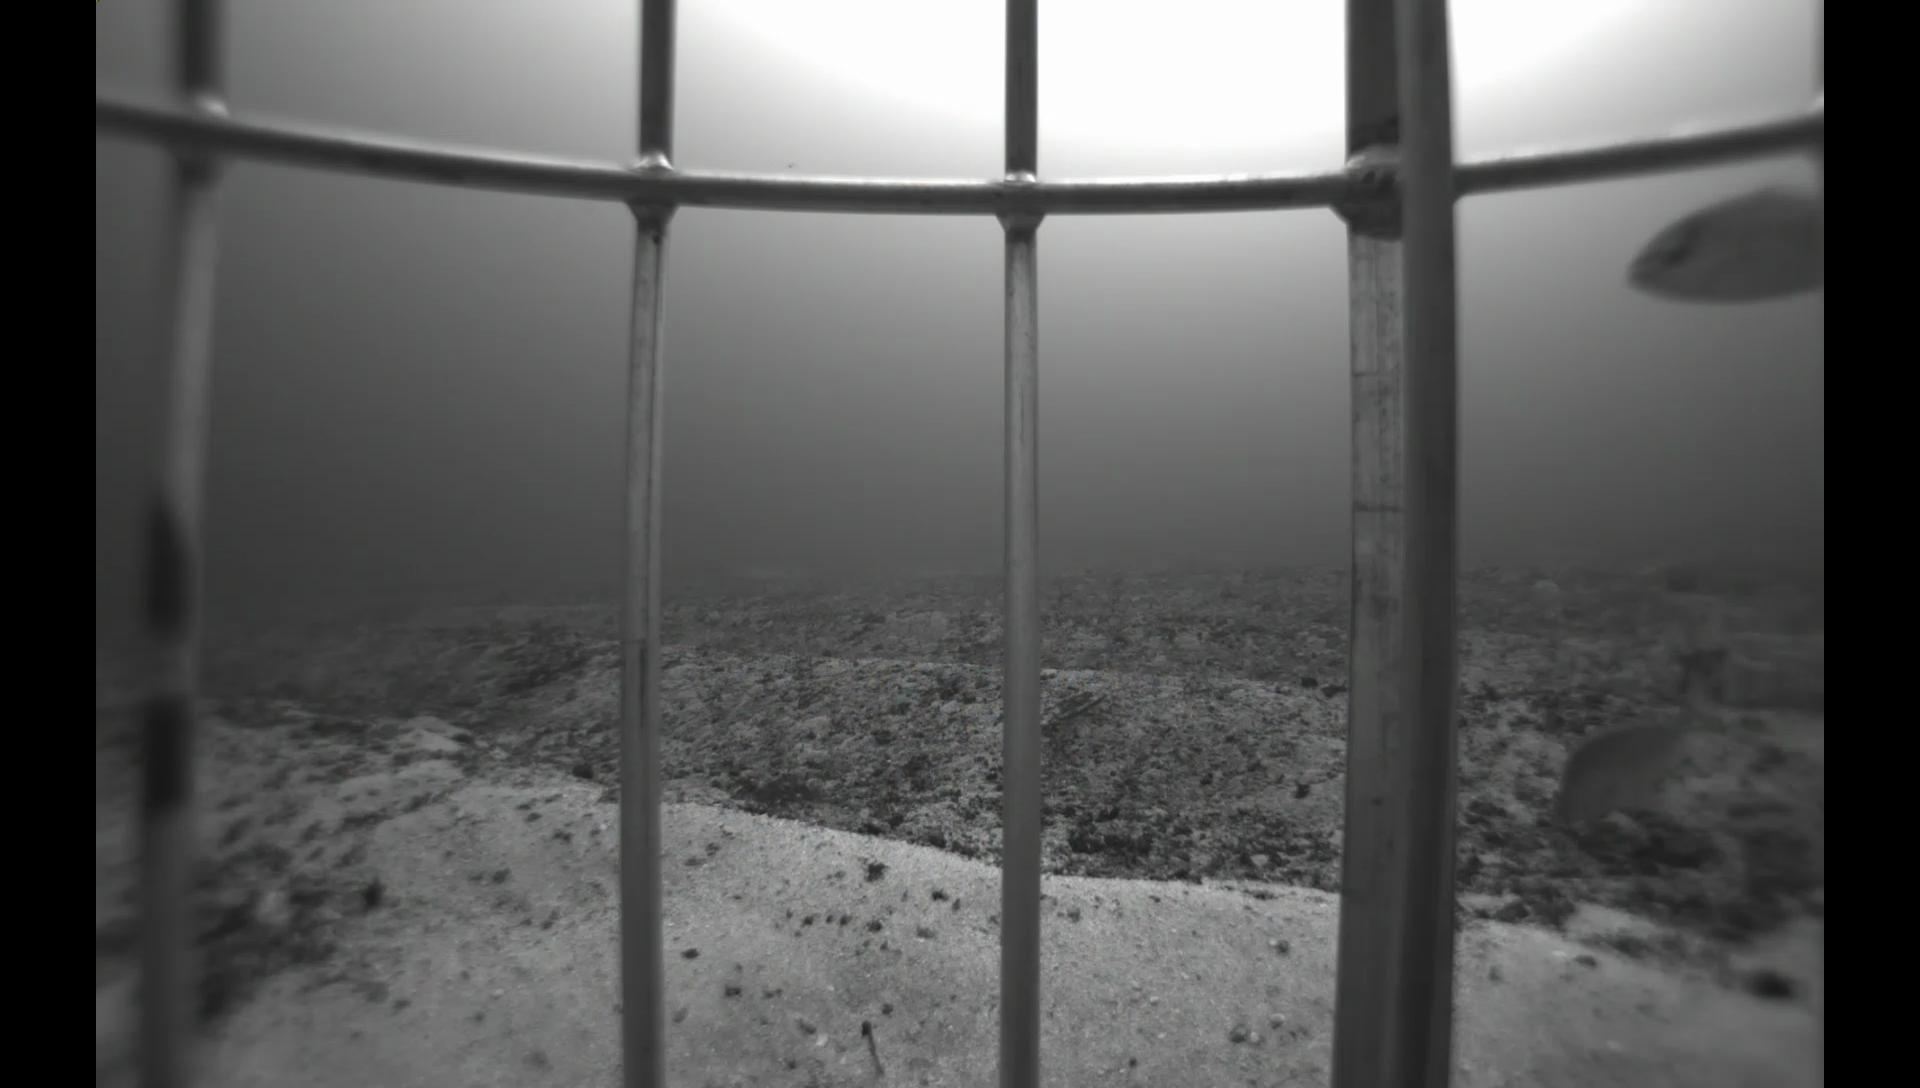CALAMUSPRORIDENS-170210605: (1542, 666, 1737, 841)
RHOMBOPLITESAURORUBENS-170152001: (1635, 586, 1741, 669)
SERIOLAFASCIATA-170113103: (1607, 173, 1822, 317)
